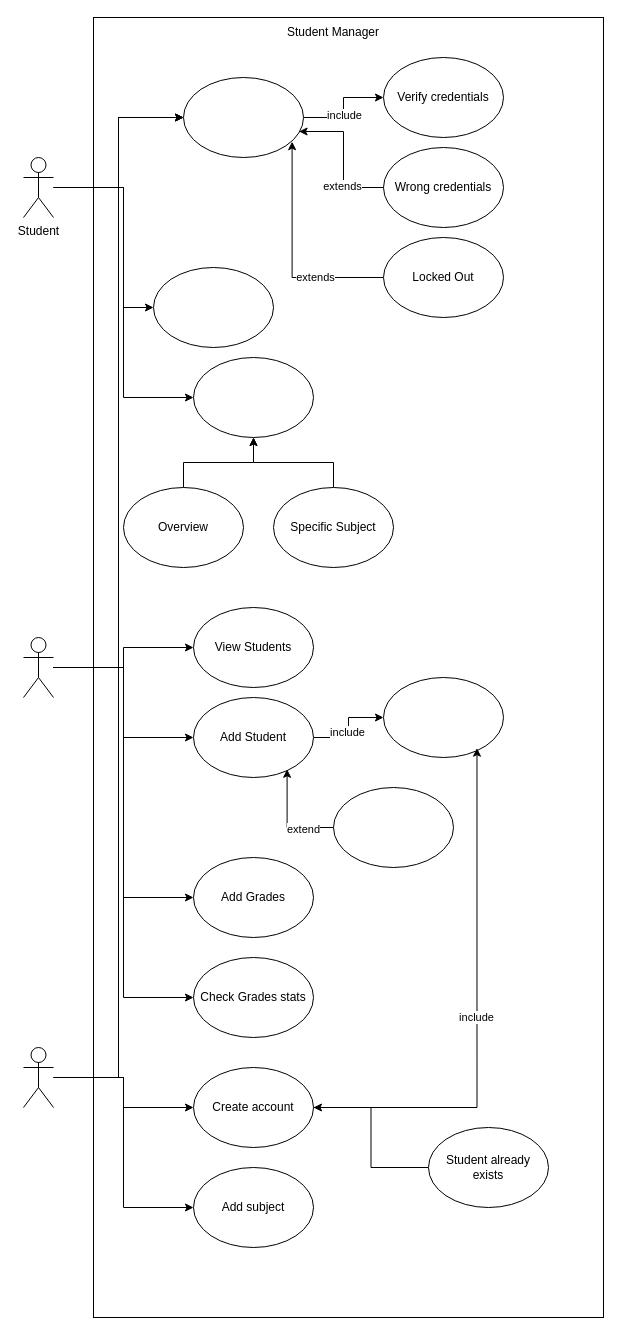
This 621x1335 diagram has some shape labels left out. The shapes that lost their labels are listed below. From the top down, each one's centre as x and y in pixels, then its label:
At point 243,117: "Log In".
At point 213,307: "View University Details".
At point 253,397: "View Grades".
At point 38,667: "Teacher".
At point 443,717: "check student status".
At point 393,827: "Student already enrolled error".
At point 38,1077: "Admin".
